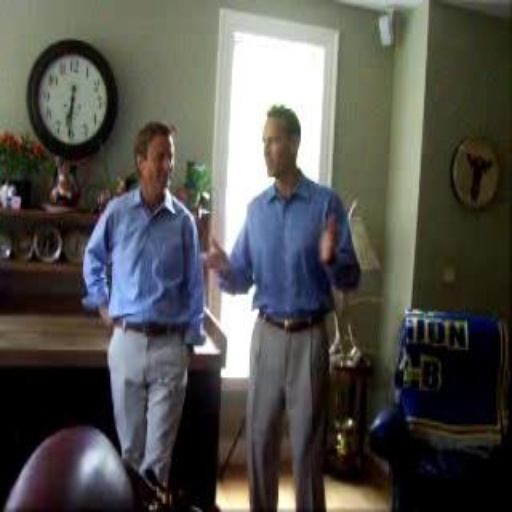hand: (200, 238, 230, 277), (316, 206, 334, 264), (100, 307, 115, 339)
